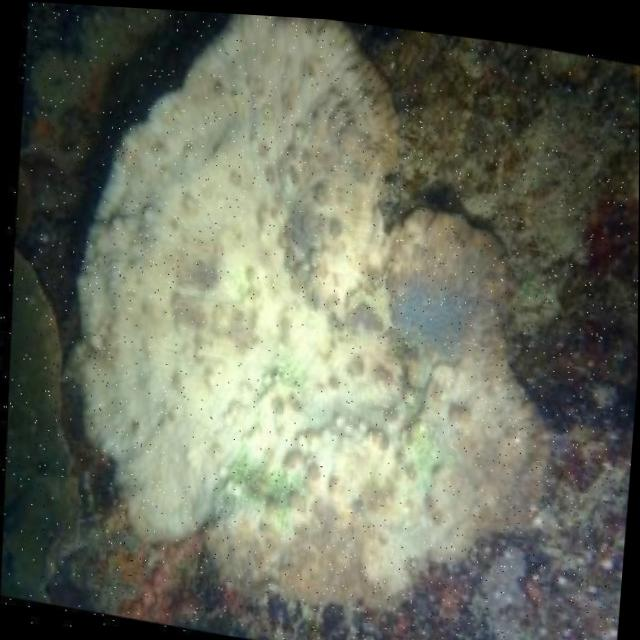Bleached Coral: (41, 2, 585, 640)
